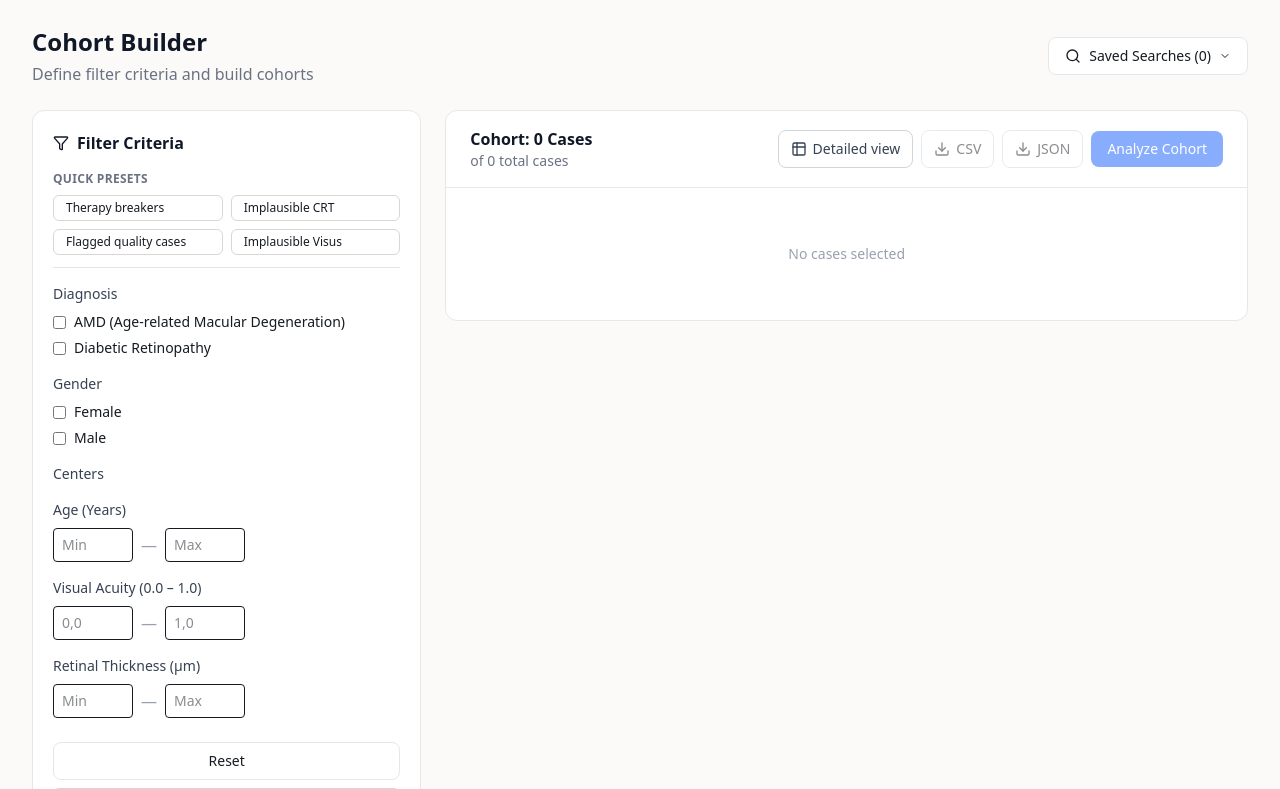
Test: cohortValidation — COH-01 inline validation › CRT validation › CRT min above CRT max shows cohortValidationCrtLowerExceedsUpper and disables Save
Type "600" into the number field with placeholder "Min" below "Retinal Thickness (µm)".
click(93, 701); type("600")  # box left=53, top=684, right=133, bottom=718
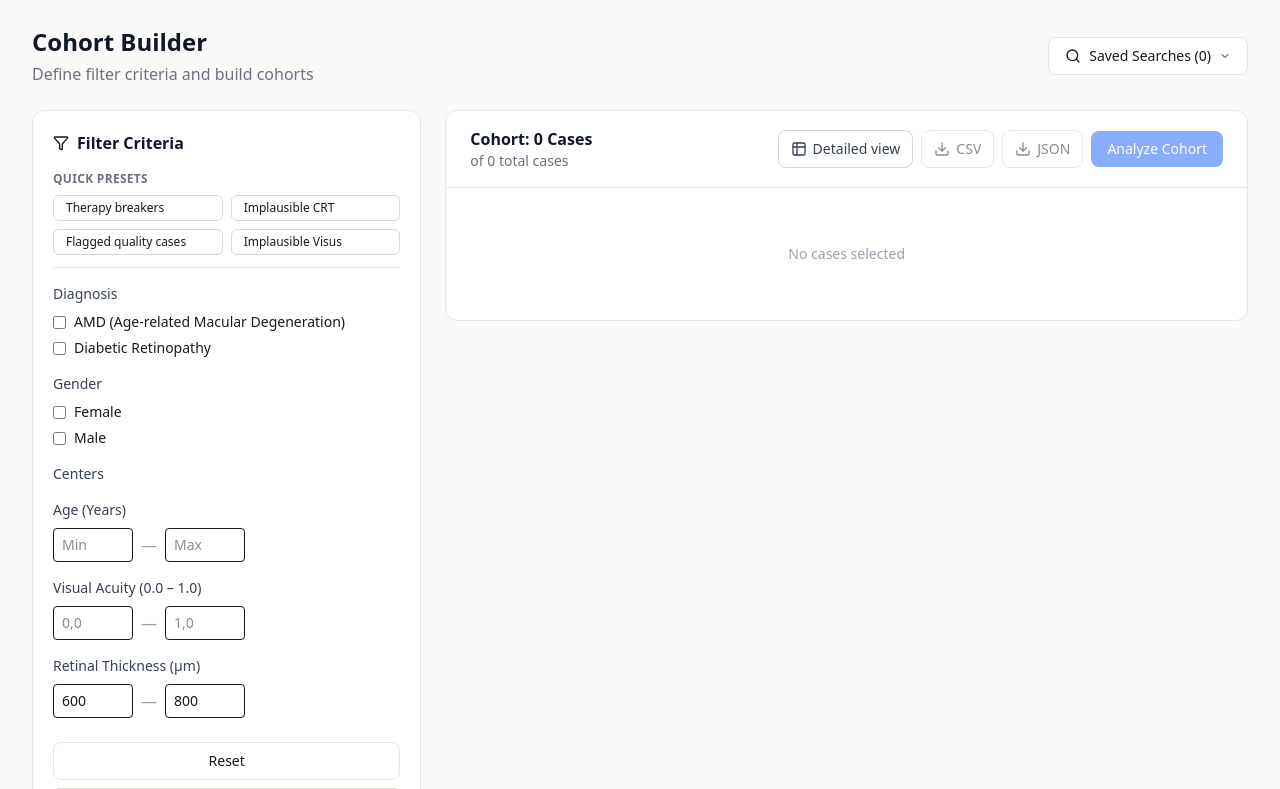
Replace the text in the 2nd number field with placeholder "Max" with "400" at (205, 701), box left=165, top=684, right=245, bottom=718
(page scrolled)
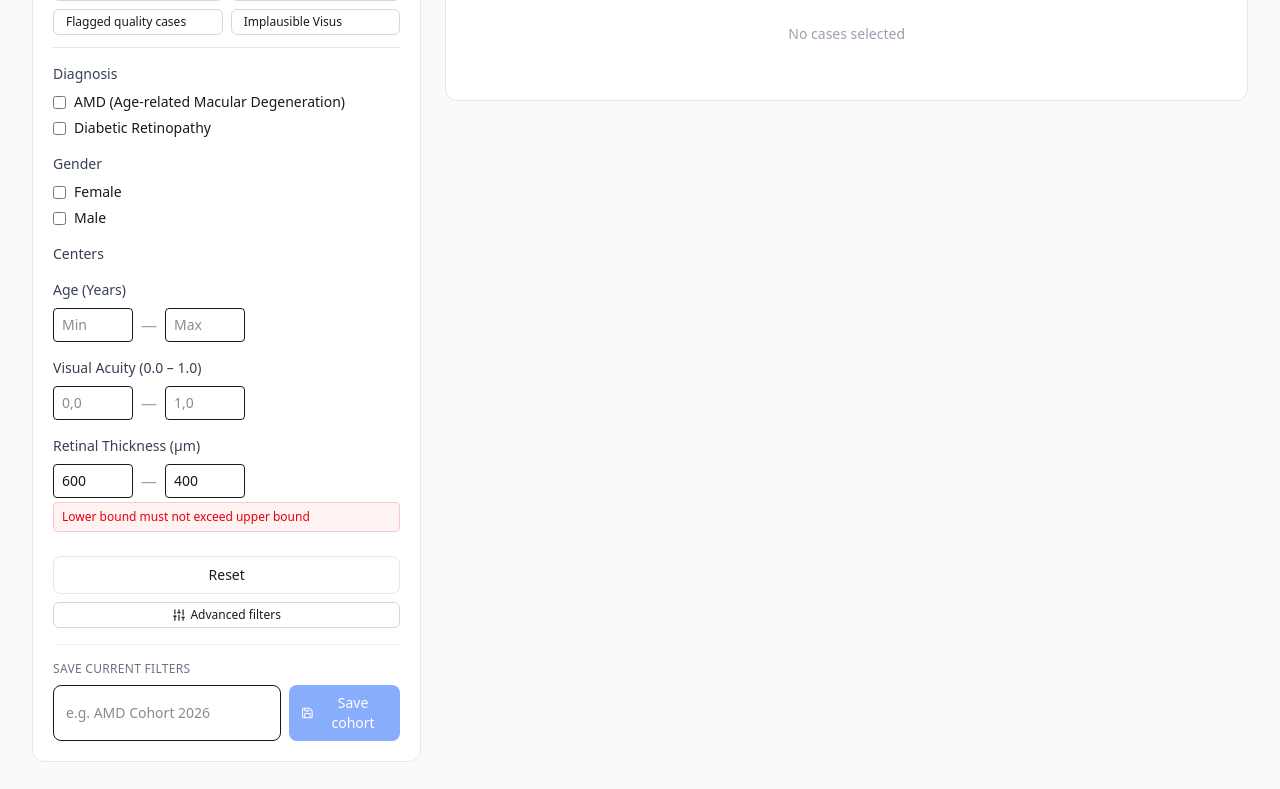
Expected: the button "Save cohort" is disabled, left=289, top=685, right=400, bottom=741
Now the text "Lower bound must not exceed upper bound" is shown, box left=53, top=502, right=400, bottom=532
